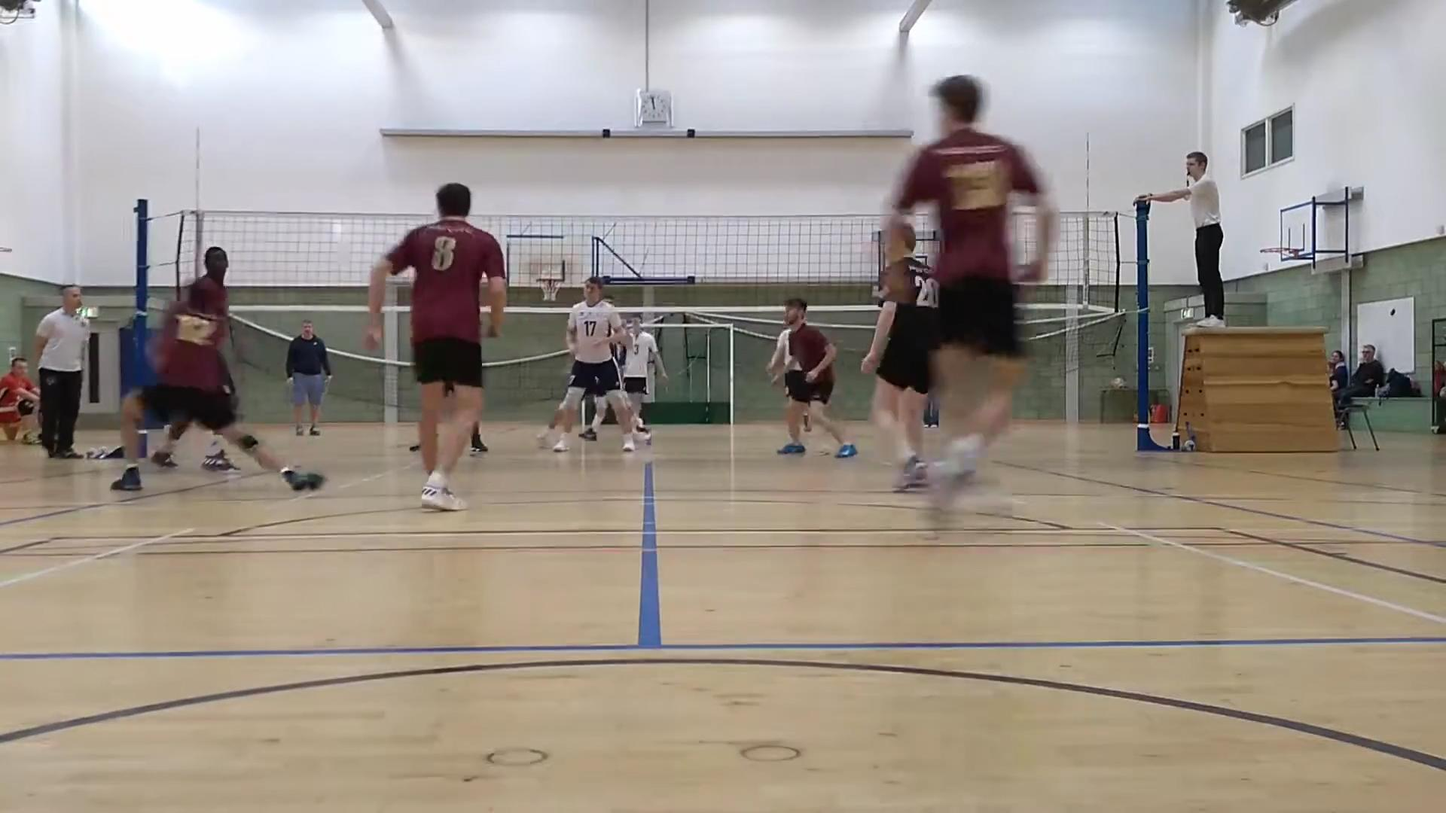Player: (886, 75, 1056, 507), (367, 183, 505, 510), (861, 226, 938, 490), (553, 277, 635, 451), (779, 298, 856, 458), (621, 317, 668, 437), (766, 327, 795, 410), (151, 418, 191, 468), (578, 387, 607, 440), (203, 247, 228, 289), (470, 422, 488, 455)
Receive: (108, 282, 333, 493)
